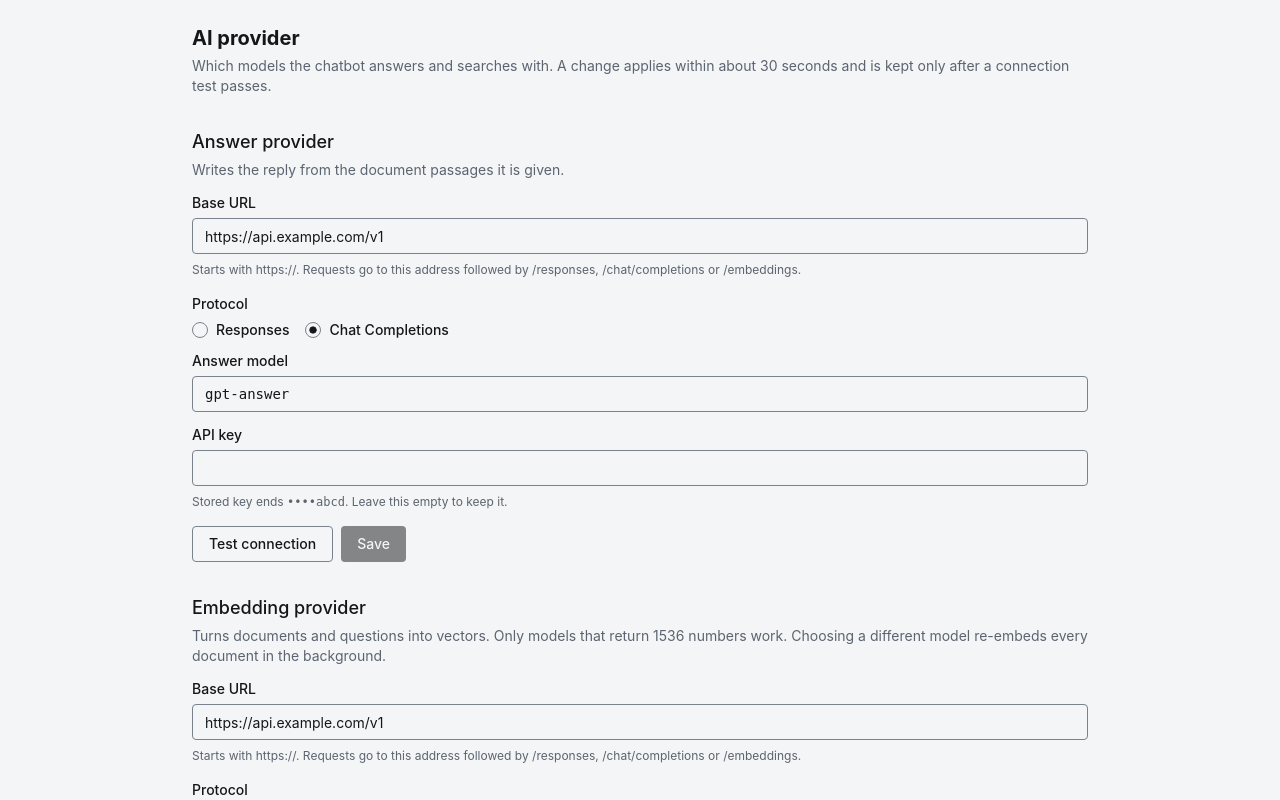
Test case: tests a connection with the typed values and reports the result
This screenshot has width=1280, height=800.
Replace the text in the field labelled "Answer model" with "gpt-new": (640, 394) 192,376 -> 1088,412
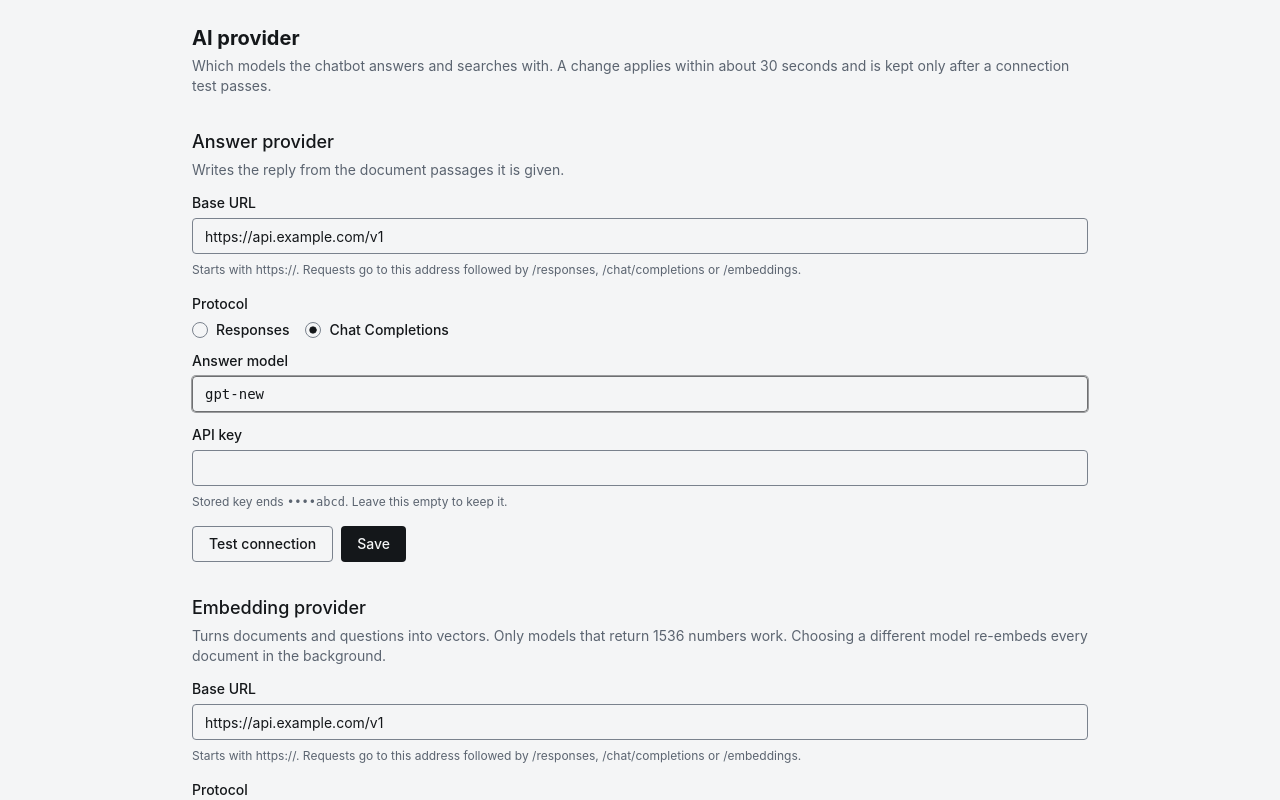
In the password field labelled "API key": (640, 468) 192,450 -> 1088,486, type "sk-typed-key"
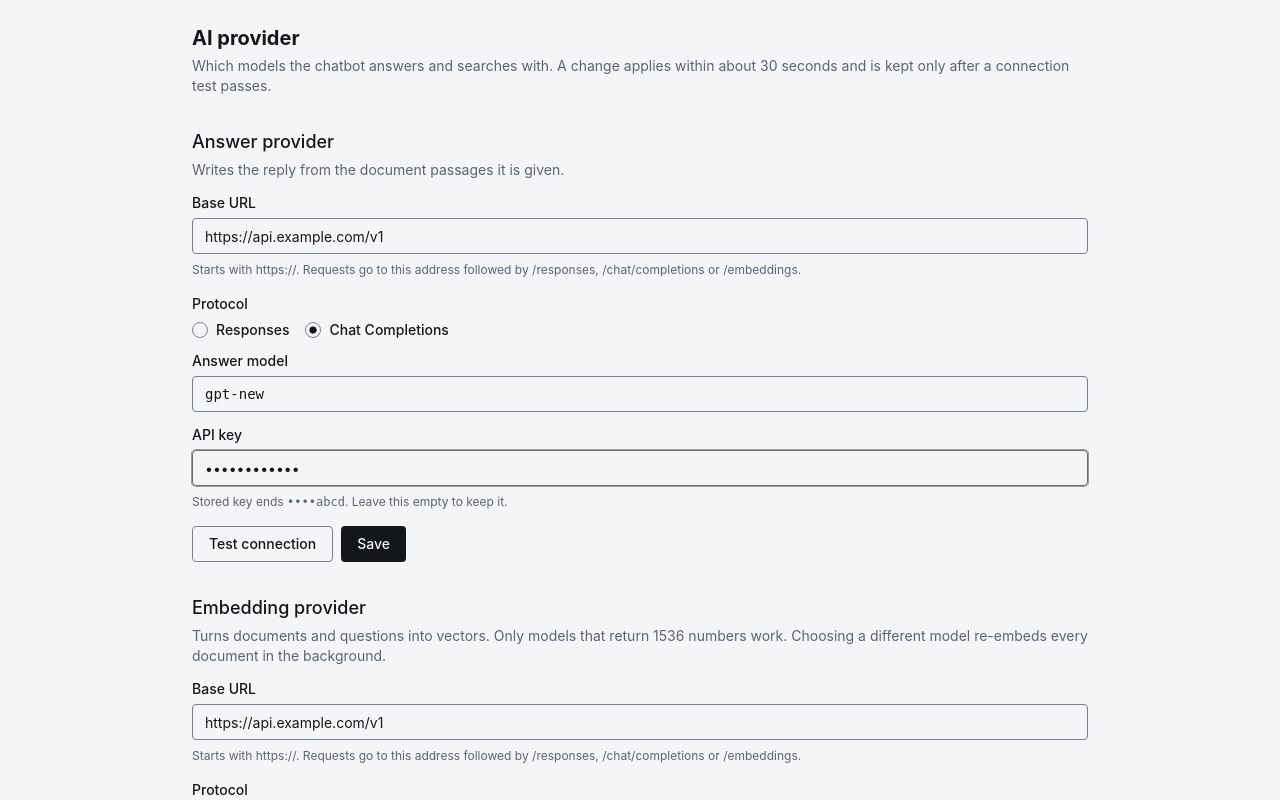
Click the button with aria-label "Test answer connection": (263, 544) 192,526 -> 333,562
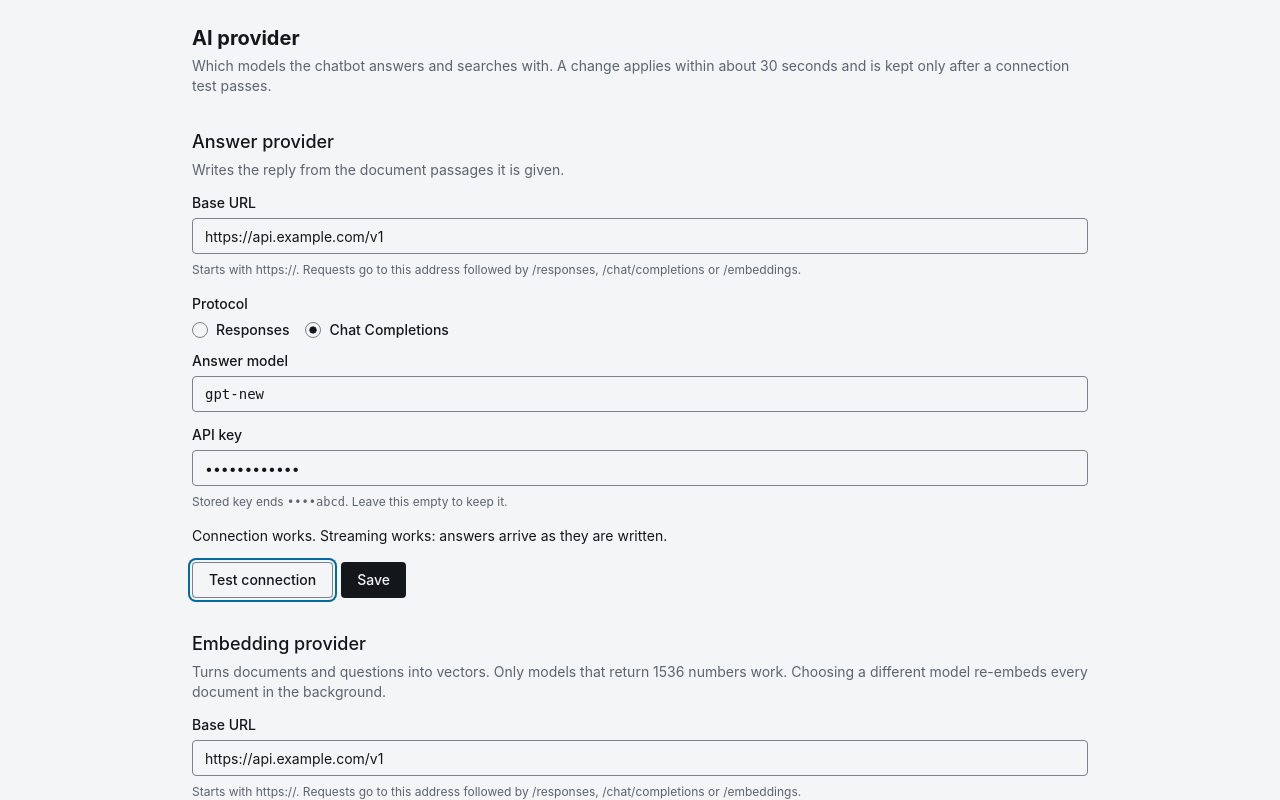
Expected: the text "Connection works. Streaming works: answers arrive as they are written." is shown, 192,527 -> 667,544
